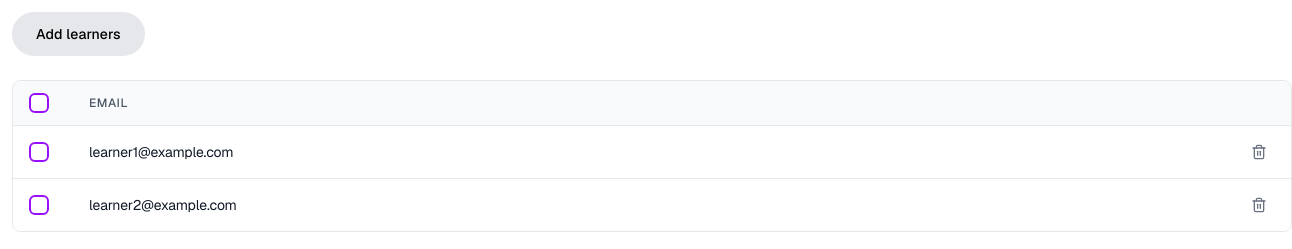
CohortMemberManagement Component › Member Selection Functionality › deselects all members when select all checkbox is clicked again
This screenshot has width=1292, height=249.
# Select all first
Click the checkbox named "Select all learners": (39, 103) [29,93,49,113]
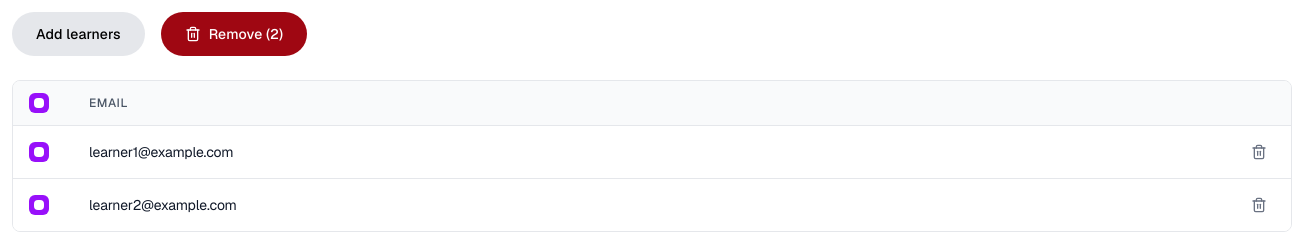
# Then deselect all
Click the checkbox named "Select all learners": (39, 103) [29,93,49,113]
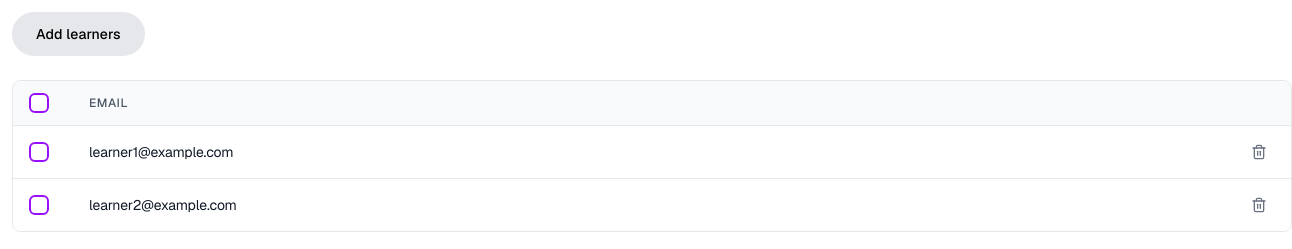
Expected: the checkbox next to "learner1@example.com" is not checked, [29,142,49,162]
Expected: the checkbox next to "learner2@example.com" is not checked, [29,195,49,215]
Expected: the button "Remove (2)" is gone
